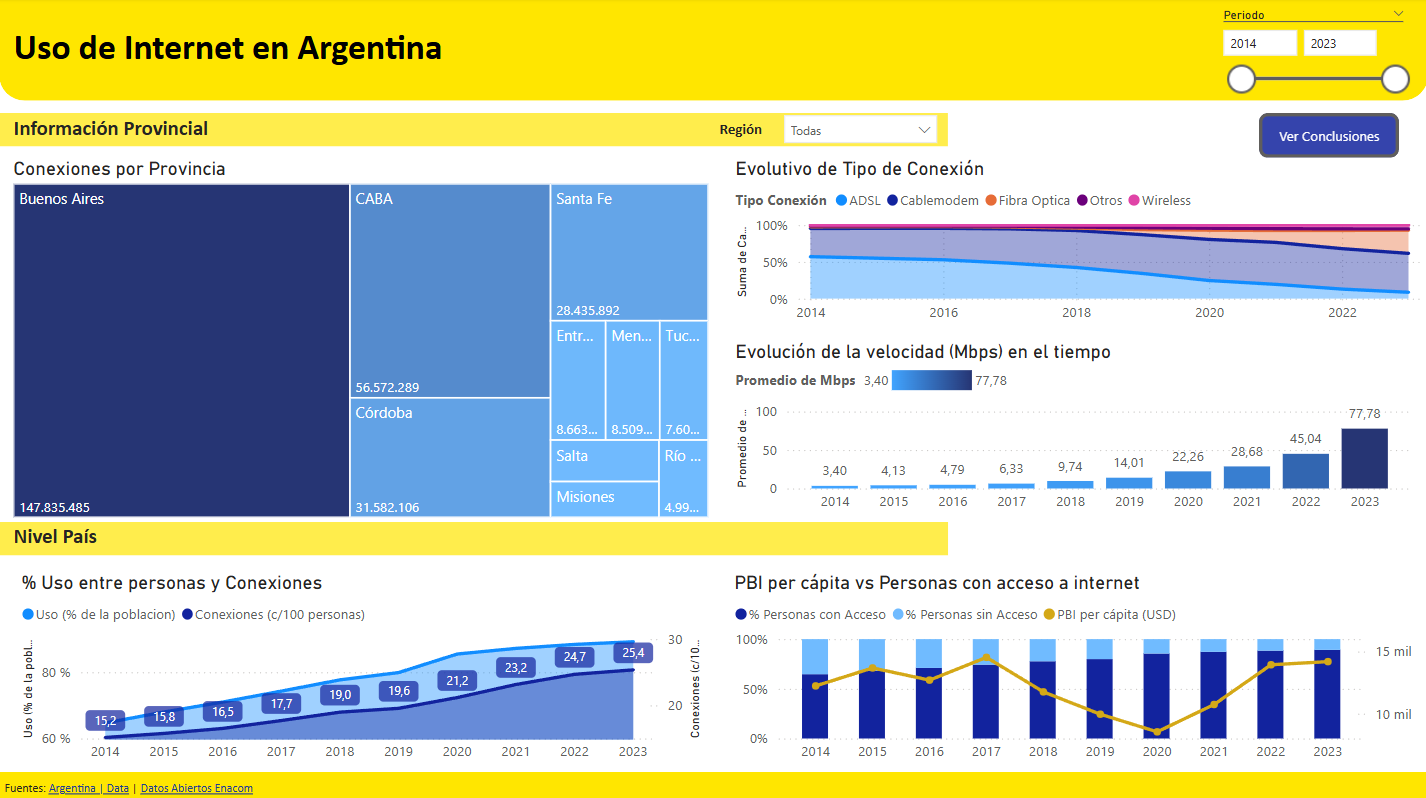

The page's visual inventory and layout, read from the dashboard file:
{"tool":"powerbi","page":{"name":"Datos Argentina","canvas":[1280,720],"ordinal":0},"visuals":[{"type":"shape","box":[0,0,1279.7,92.2],"z":0},{"type":"lineStackedColumnComboChart","title":"PBI per cápita vs Personas con acceso a internet","fields":{"Category":["Año.Año"],"Y":["Sum(Arg_WB_Data.Individuals using the Internet (% of population))","Sum(Arg_WB_Data.Personas sin acceso a internet)"],"Y2":["Avg(Arg_WB_Data.GDP per capita (current US$))"]},"box":[653.7,513.1,617,180],"z":1000},{"type":"areaChart","title":"% Uso entre personas y Conexiones ","fields":{"Category":["Arg_WB_Data.Año"],"Y":["Sum(Arg_WB_Data.Individuals using the Internet (% of population))"],"Y2":["Sum(Arg_WB_Data.Fixed broadband subscriptions (per 100 people))"]},"box":[15.2,513.1,618.8,180],"z":2000},{"type":"textbox","box":[8.1,19.7,408.4,53.7],"z":3000},{"type":"hundredPercentStackedAreaChart","title":"Evolutivo de Tipo de Conexión","fields":{"Category":["Tipo_Acceso.Año"],"Y":["Sum(Tipo_Acceso.Cant. Conexiones)"],"Series":["Tipo_Acceso.Tipo Conexión"]},"box":[654.3,142.5,625.7,156.9],"z":4000},{"type":"treemap","title":"Conexiones por Provincia","fields":{"Group":["Tipo_Acceso.Provincia"],"Values":["Sum(Tipo_Acceso.Cant. Conexiones)"]},"box":[8.1,142.4,632.2,327.8],"z":5000},{"type":"shape","box":[0,693.1,1279.7,26.9],"z":6000},{"type":"slicer","fields":{"Values":["Año.Año"]},"box":[1083.7,3.6,187.3,88.7],"z":7000},{"type":"clusteredColumnChart","title":"Evolución de la velocidad (Mbps) en el tiempo","fields":{"Y":["Avg(Velocidad_Media_ARG.Mbps)"],"Category":["Año.Año"]},"box":[654.6,306.3,616.1,163],"z":9000},{"type":"shape","box":[0,469.3,849.9,30.4],"z":10000},{"type":"textbox","box":[8.1,464.8,299.1,38.5],"z":11000},{"type":"shape","box":[0,103,849.7,30],"z":12000},{"type":"textbox","box":[8.1,99.4,299.1,37.6],"z":13000},{"type":"slicer","fields":{"Values":["Provincias.Region"]},"box":[692.9,95,156.9,37.6],"z":14000},{"type":"textbox","box":[640,103.1,64.5,29.6],"z":15000},{"type":"textbox","box":[0,692.2,675.2,27.8],"z":16000},{"type":"actionButton","box":[1128.4,103,126.3,40.3],"z":17000}]}

Visuals, with their boxes in screenshot pixels (x1, y1, x2, y2), scaled from the page's 1280x720 canvas onto the 1426x798 screenshot:
shape: 0/0/1425/102
"PBI per cápita vs Personas con acceso a internet" lineStackedColumnComboChart: 728/569/1416/768
"% Uso entre personas y Conexiones " areaChart: 17/569/706/768
textbox: 9/22/464/81
"Evolutivo de Tipo de Conexión" hundredPercentStackedAreaChart: 729/158/1425/332
"Conexiones por Provincia" treemap: 9/158/713/521
shape: 0/768/1425/797
slicer - Año.Año: 1207/4/1416/102
"Evolución de la velocidad (Mbps) en el tiempo" clusteredColumnChart: 729/339/1416/520
shape: 0/520/947/554
textbox: 9/515/342/558
shape: 0/114/947/147
textbox: 9/110/342/152
slicer - Provincias.Region: 772/105/947/147
textbox: 713/114/785/147
textbox: 0/767/752/797
actionButton: 1257/114/1398/159
